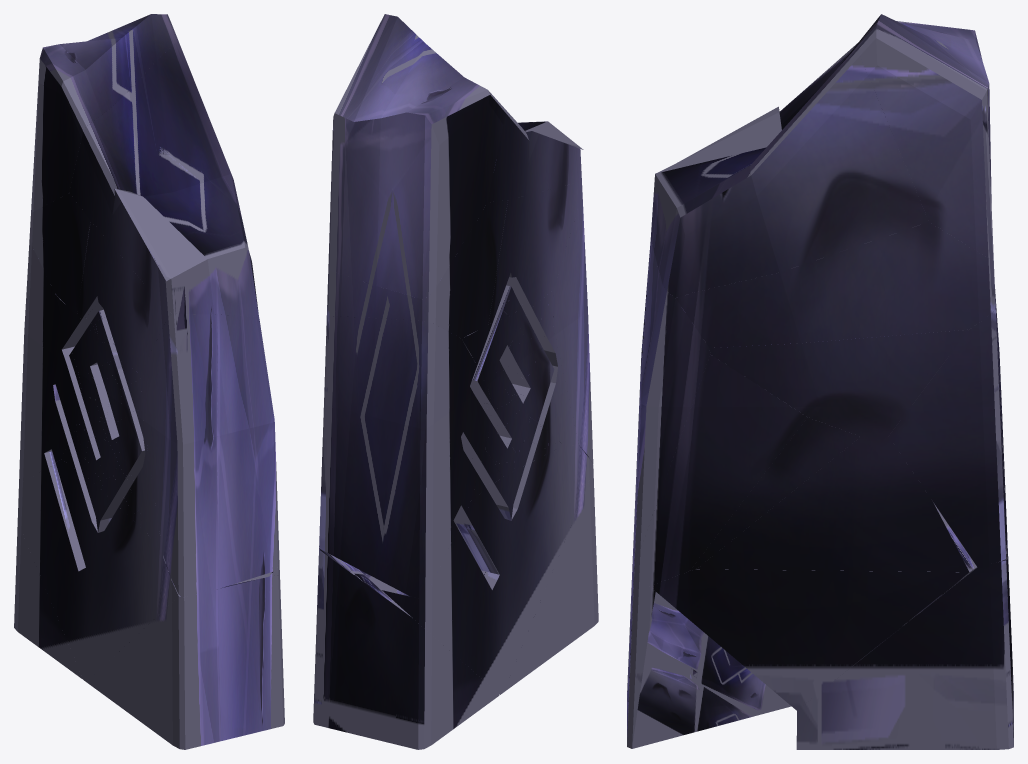
File: Relic 1 Fragments.fbx
3 views of the same model, side by side, from view 1: azimuth 30°, elevation 25°; view 2: azimuth 150°, elevation 25°; view 3: azimuth 270°, elevation 25° (orthographic). The views are drawn at different scales.
Visible parts, largest first — view 1: Cube.004_cell.004, Cube.004_cell.009, Cube.004_cell, Cube.004_cell.007, Cube.004_cell.003, Cube.004_cell.013, Cube.004_cell.016, Cube.004_cell.008, Cube.004_cell.005, Cube.004_cell.002, Cube.004_cell.011, Cube.004_cell.001_cell.004 (+5 smaller); view 2: Cube.004_cell.013, Cube.004_cell.003, Cube.004_cell.007, Cube.004_cell.005, Cube.004_cell.008, Cube.004_cell, Cube.004_cell.016, Cube.004_cell.004, Cube.004_cell.009, Cube.004_cell.002, Cube.004_cell.011, Cube.004_cell.010_cell.004 (+4 smaller); view 3: Cube.004_cell.009, Cube.004_cell.005, Cube.004_cell.008, Cube.004_cell.007, Cube.004_cell.014, Cube.004_cell.003, Cube.004_cell.002, Cube.004_cell.013, Cube.004_cell.011, Cube.004_cell, Cube.004_cell.004, Cube.004_cell.006.
Part boxes in pixels (x1=…): Cube.004_cell.004: x1=141, y1=314, x2=278, y2=596; Cube.004_cell.009: x1=69, y1=41, x2=258, y2=316; Cube.004_cell: x1=86, y1=575, x2=284, y2=749; Cube.004_cell.007: x1=18, y1=459, x2=180, y2=681; Cube.004_cell.003: x1=31, y1=14, x2=178, y2=212; Cube.004_cell.013: x1=19, y1=237, x2=85, y2=484; Cube.004_cell.016: x1=77, y1=221, x2=171, y2=373; Cube.004_cell.008: x1=29, y1=193, x2=103, y2=318; Cube.004_cell.005: x1=14, y1=518, x2=82, y2=679; Cube.004_cell.002: x1=115, y1=409, x2=279, y2=579; Cube.004_cell.011: x1=55, y1=294, x2=119, y2=377; Cube.004_cell.001_cell.004: x1=121, y1=379, x2=141, y2=418; Cube.004_cell.013: x1=319, y1=316, x2=491, y2=598; Cube.004_cell.003: x1=328, y1=14, x2=505, y2=299; Cube.004_cell.007: x1=360, y1=445, x2=593, y2=694; Cube.004_cell.005: x1=313, y1=547, x2=499, y2=749; Cube.004_cell.008: x1=326, y1=200, x2=507, y2=338; Cube.004_cell: x1=504, y1=467, x2=598, y2=691; Cube.004_cell.016: x1=488, y1=181, x2=582, y2=324; Cube.004_cell.004: x1=553, y1=189, x2=593, y2=463; Cube.004_cell.009: x1=488, y1=108, x2=583, y2=202; Cube.004_cell.002: x1=504, y1=326, x2=579, y2=445; Cube.004_cell.011: x1=462, y1=302, x2=526, y2=388; Cube.004_cell.010_cell.004: x1=492, y1=410, x2=530, y2=454; Cube.004_cell.009: x1=650, y1=48, x2=928, y2=297; Cube.004_cell.005: x1=796, y1=559, x2=1013, y2=749; Cube.004_cell.008: x1=676, y1=222, x2=995, y2=347; Cube.004_cell.007: x1=650, y1=539, x2=1008, y2=710; Cube.004_cell.014: x1=697, y1=436, x2=976, y2=572; Cube.004_cell.003: x1=841, y1=14, x2=993, y2=259; Cube.004_cell.002: x1=634, y1=354, x2=807, y2=585; Cube.004_cell.013: x1=889, y1=284, x2=1007, y2=567; Cube.004_cell.011: x1=709, y1=329, x2=968, y2=436; Cube.004_cell: x1=627, y1=524, x2=791, y2=748; Cube.004_cell.004: x1=634, y1=239, x2=710, y2=567; Cube.004_cell.006: x1=690, y1=417, x2=860, y2=570.
Size of the model in its own units: 852 by 4499 by 2185.
